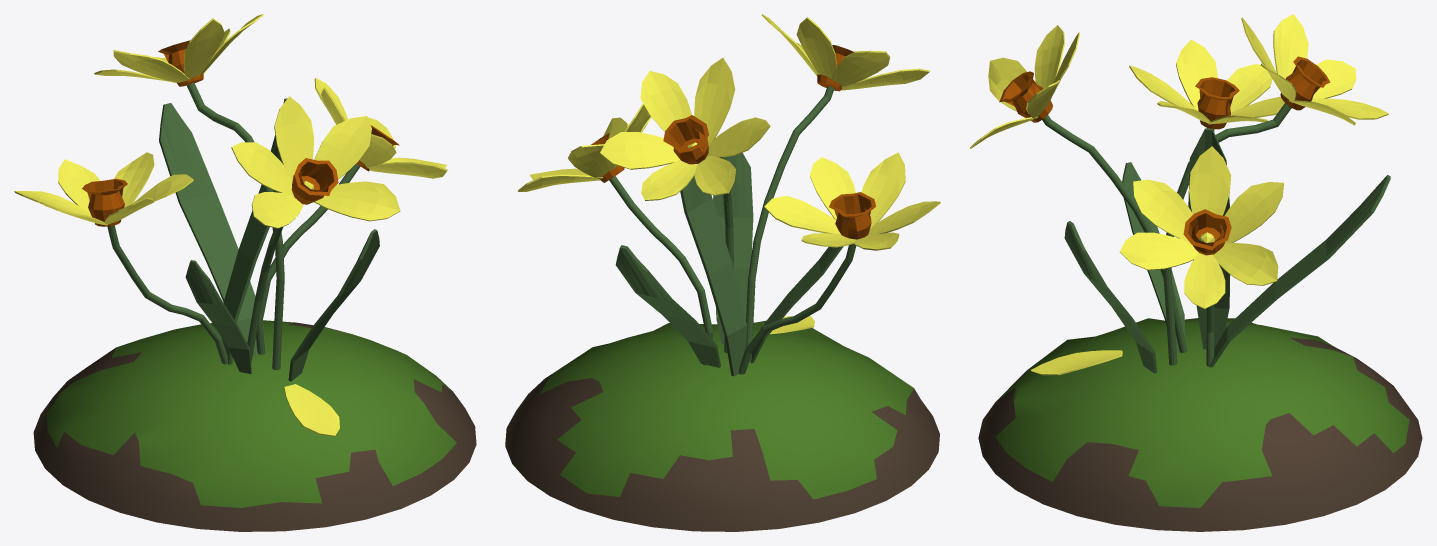
3 renders of one model, left to right at view 1: azimuth 30°, elevation 25°; view 2: azimuth 150°, elevation 25°; view 3: azimuth 270°, elevation 25°, orthographic.
Visible parts, largest first — view 1: Sphere001; view 2: Sphere001; view 3: Sphere001.
Boxes of the visible parts, <box> form: Sphere001: <box>14,14,476,531</box>; Sphere001: <box>505,14,940,531</box>; Sphere001: <box>970,14,1422,531</box>.
Size of the model in its own units: 120 by 114 by 114.
Materials: 1 (1 with a texture image).
